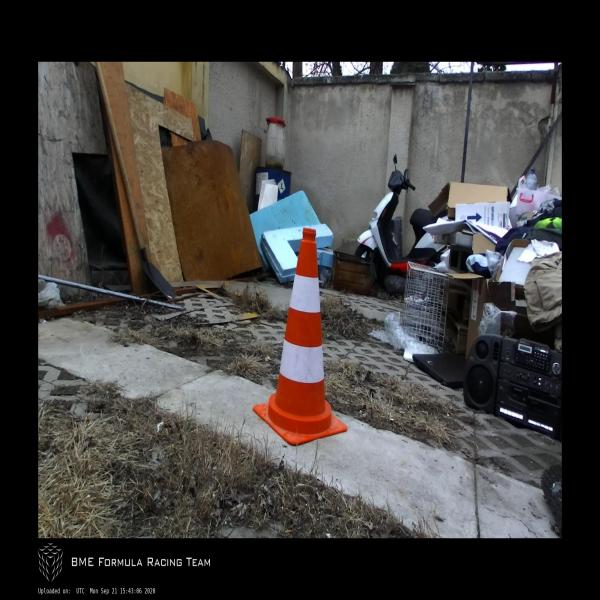large_orange_cone: (253, 228, 345, 445)
